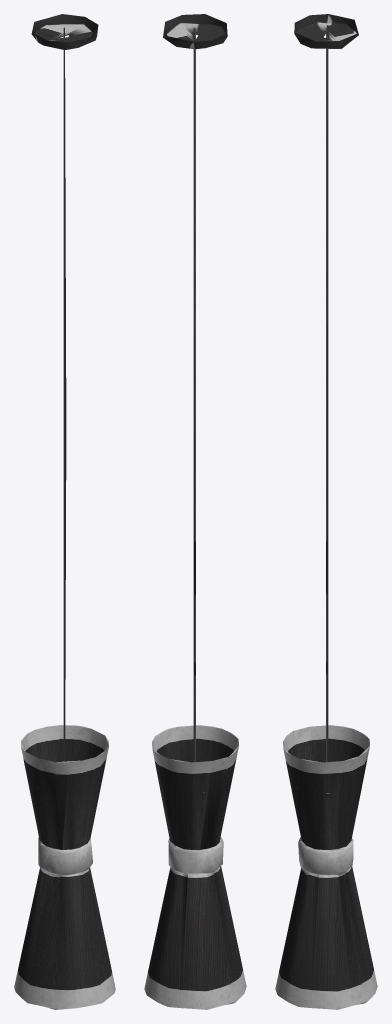
File: LightTop0013.obj
3 renders of one model, left to right at view 1: azimuth 90°, elevation 25°; view 2: azimuth 150°, elevation 25°; view 3: azimuth 330°, elevation 25°, orthographic.
Bounding box in the file's own units: 0.076 × 0.792 × 0.076.
1 material, 1 textured.
